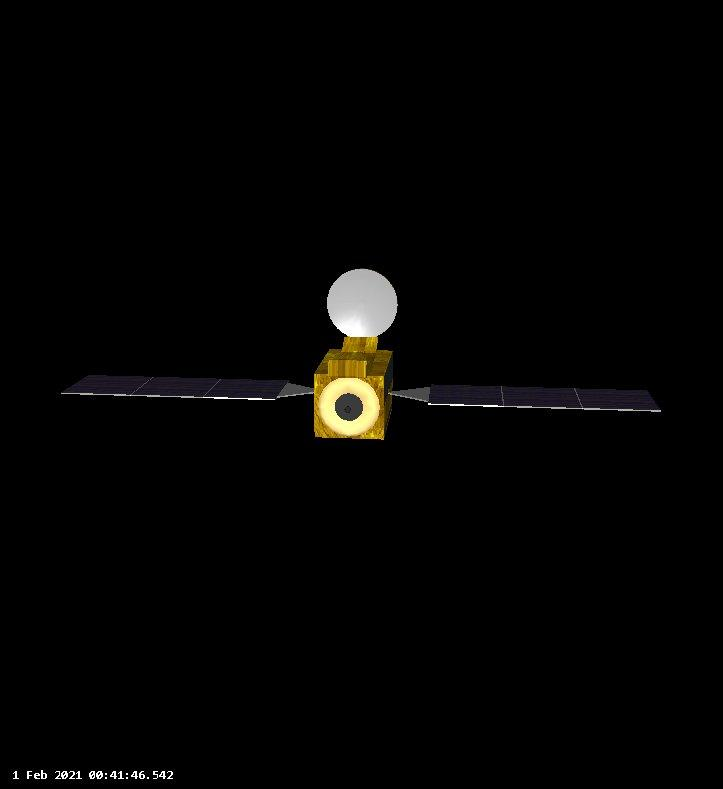antenna: (325, 267, 399, 339)
body: (310, 349, 395, 444)
solar: (427, 381, 664, 415), (59, 370, 291, 403)
thruster: (332, 391, 365, 423)
